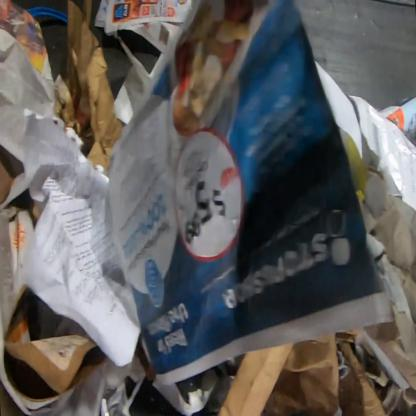cardboard: (214, 325, 390, 415), (3, 283, 112, 402)
rigid_plastic: (25, 6, 68, 24)
